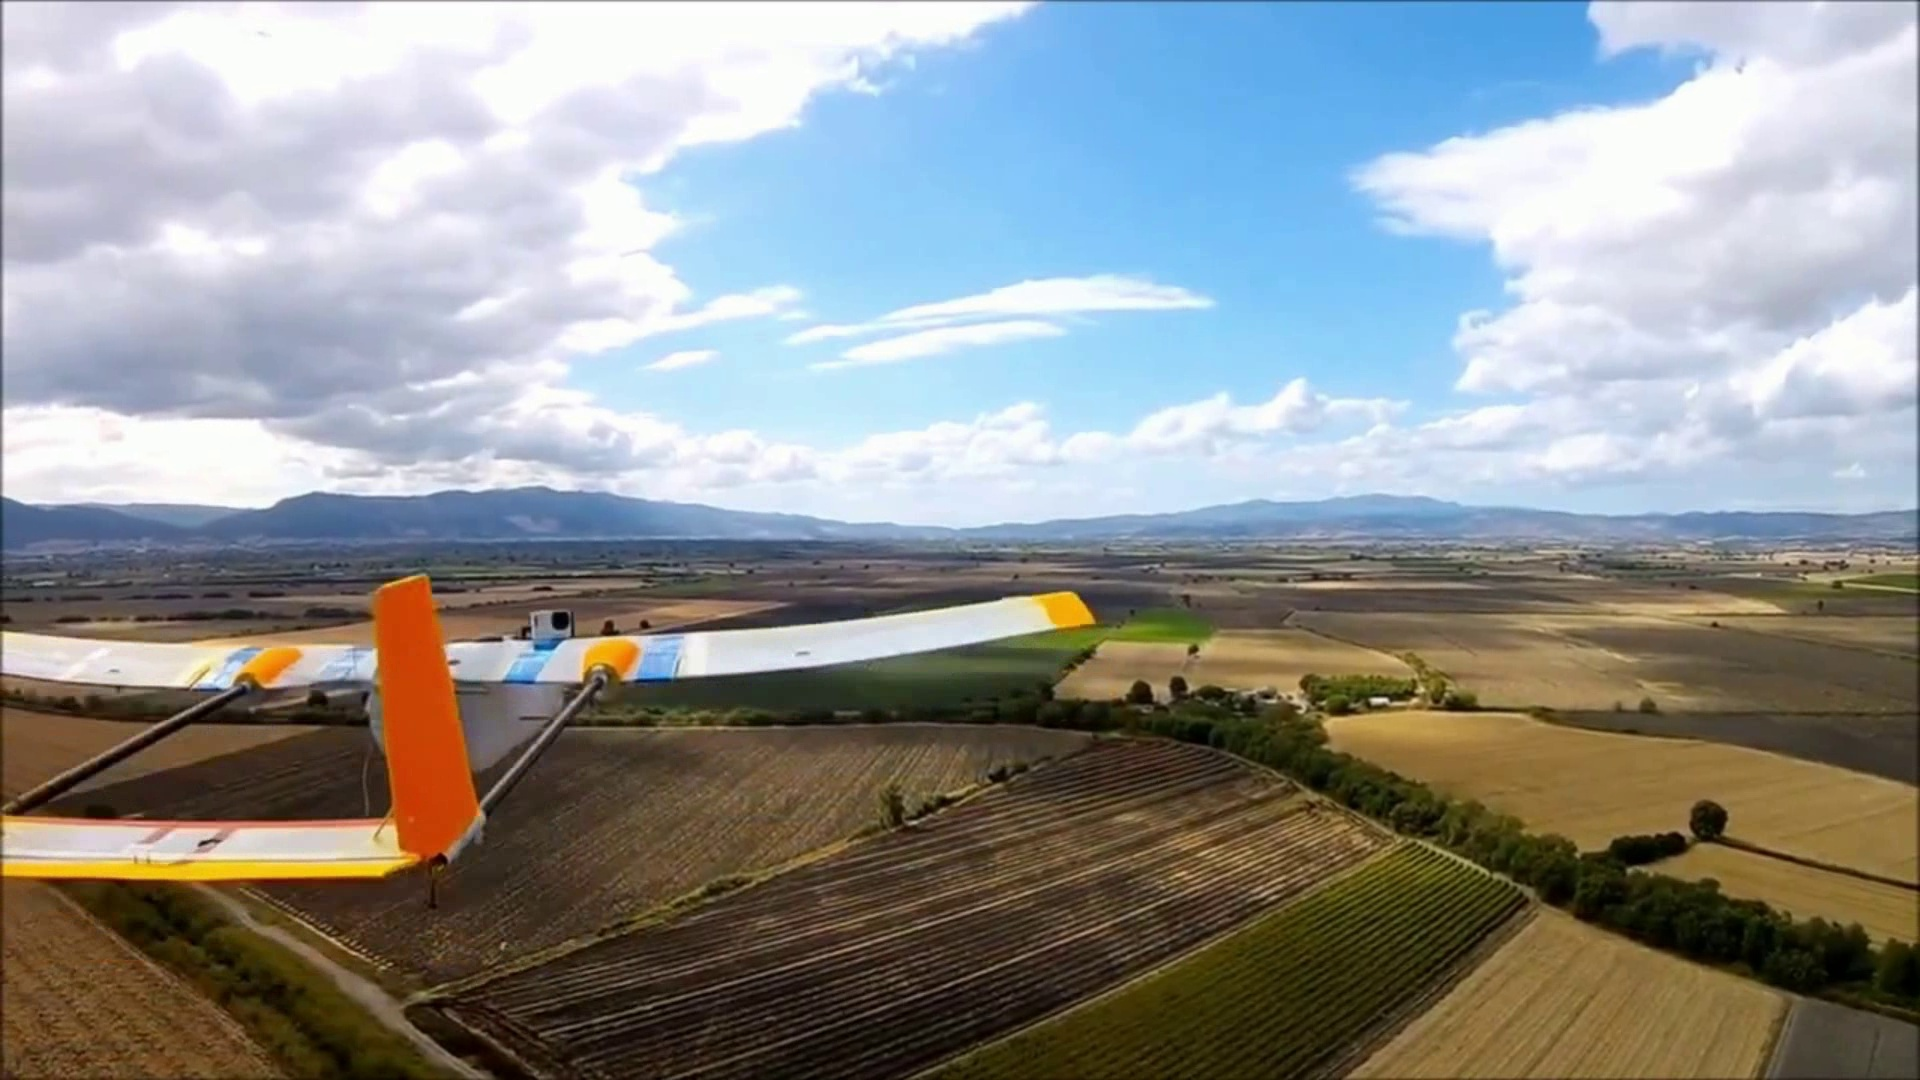airplane: (3, 579, 1112, 891)
